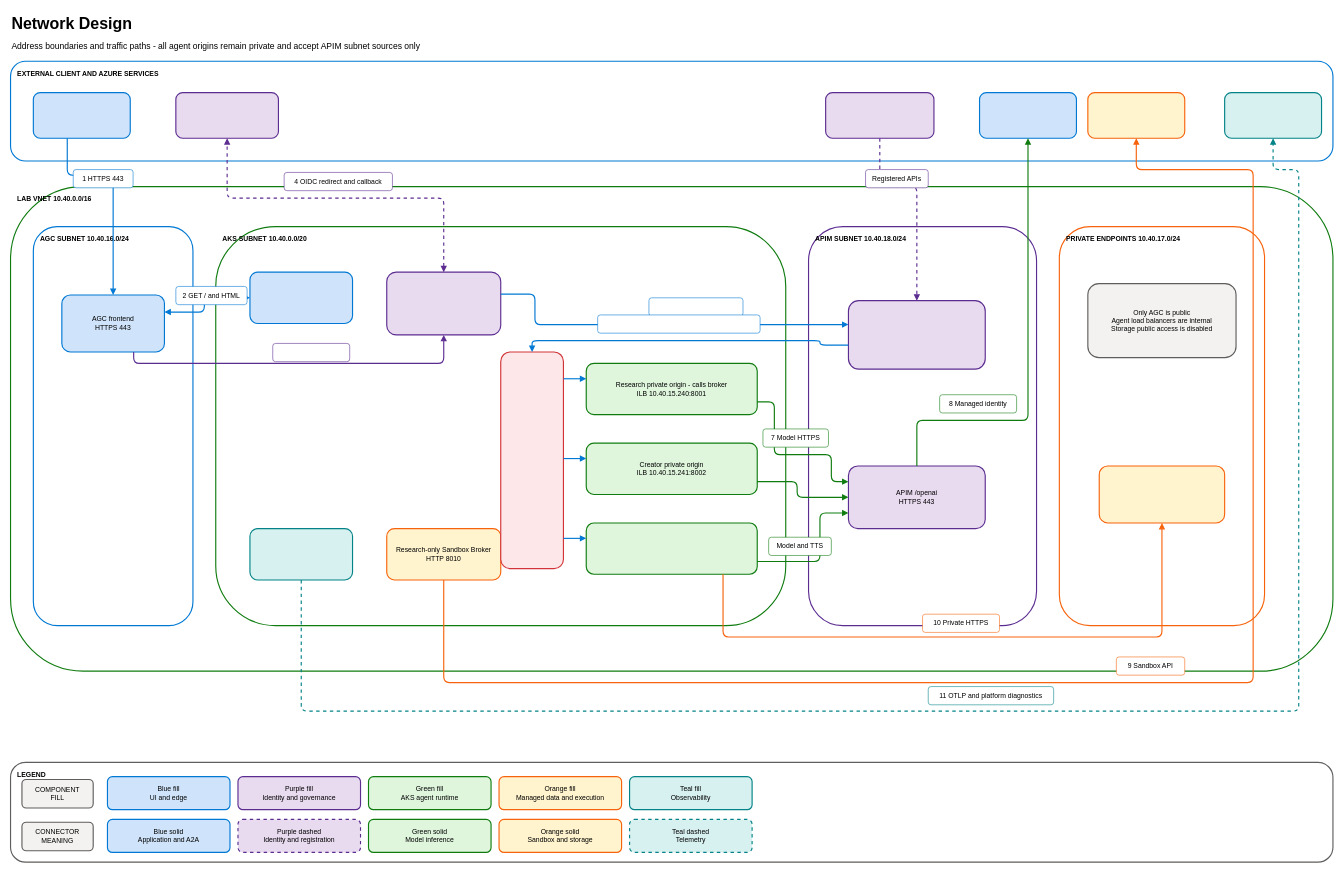
The diagram is 1343 pixels wide and 872 high, and some of its shapes have lost their labels. Here are the shapes that lost their labels. From the top down, the centre of each, then its label:
At [81,115]: "Browser DevUI JavaScript".
At [227,115]: "Microsoft Entra ID".
At [879,115]: "Foundry Agent Registry".
At [1028,115]: "Foundry Models".
At [1136,115]: "ACA Sandbox Service".
At [1273,115]: "Application Insights".
At [301,297]: "DevUI NGINX HTTP 8080".
At [443,303]: "OAuth2 Proxy :4180 BFF :8081".
At [695,306]: "5 Governed A2A HTTPS".
At [678,323]: "6 APIM subnet to source-restricted private ILBs".
At [917,334]: "APIM A2A APIs HTTPS 443".
At [311,352]: "3 /api and /oauth2".
At [532,460]: "APIM-only origin routes TCP 8001 TCP 8002 TCP 8003".
At [1161,494]: "Blob private endpoint 10.40.17.4:443".
At [301,554]: "OTEL Collector OTLP 4317".
At [671,548]: "Podcaster private origin ILB 10.40.15.242:8003".
